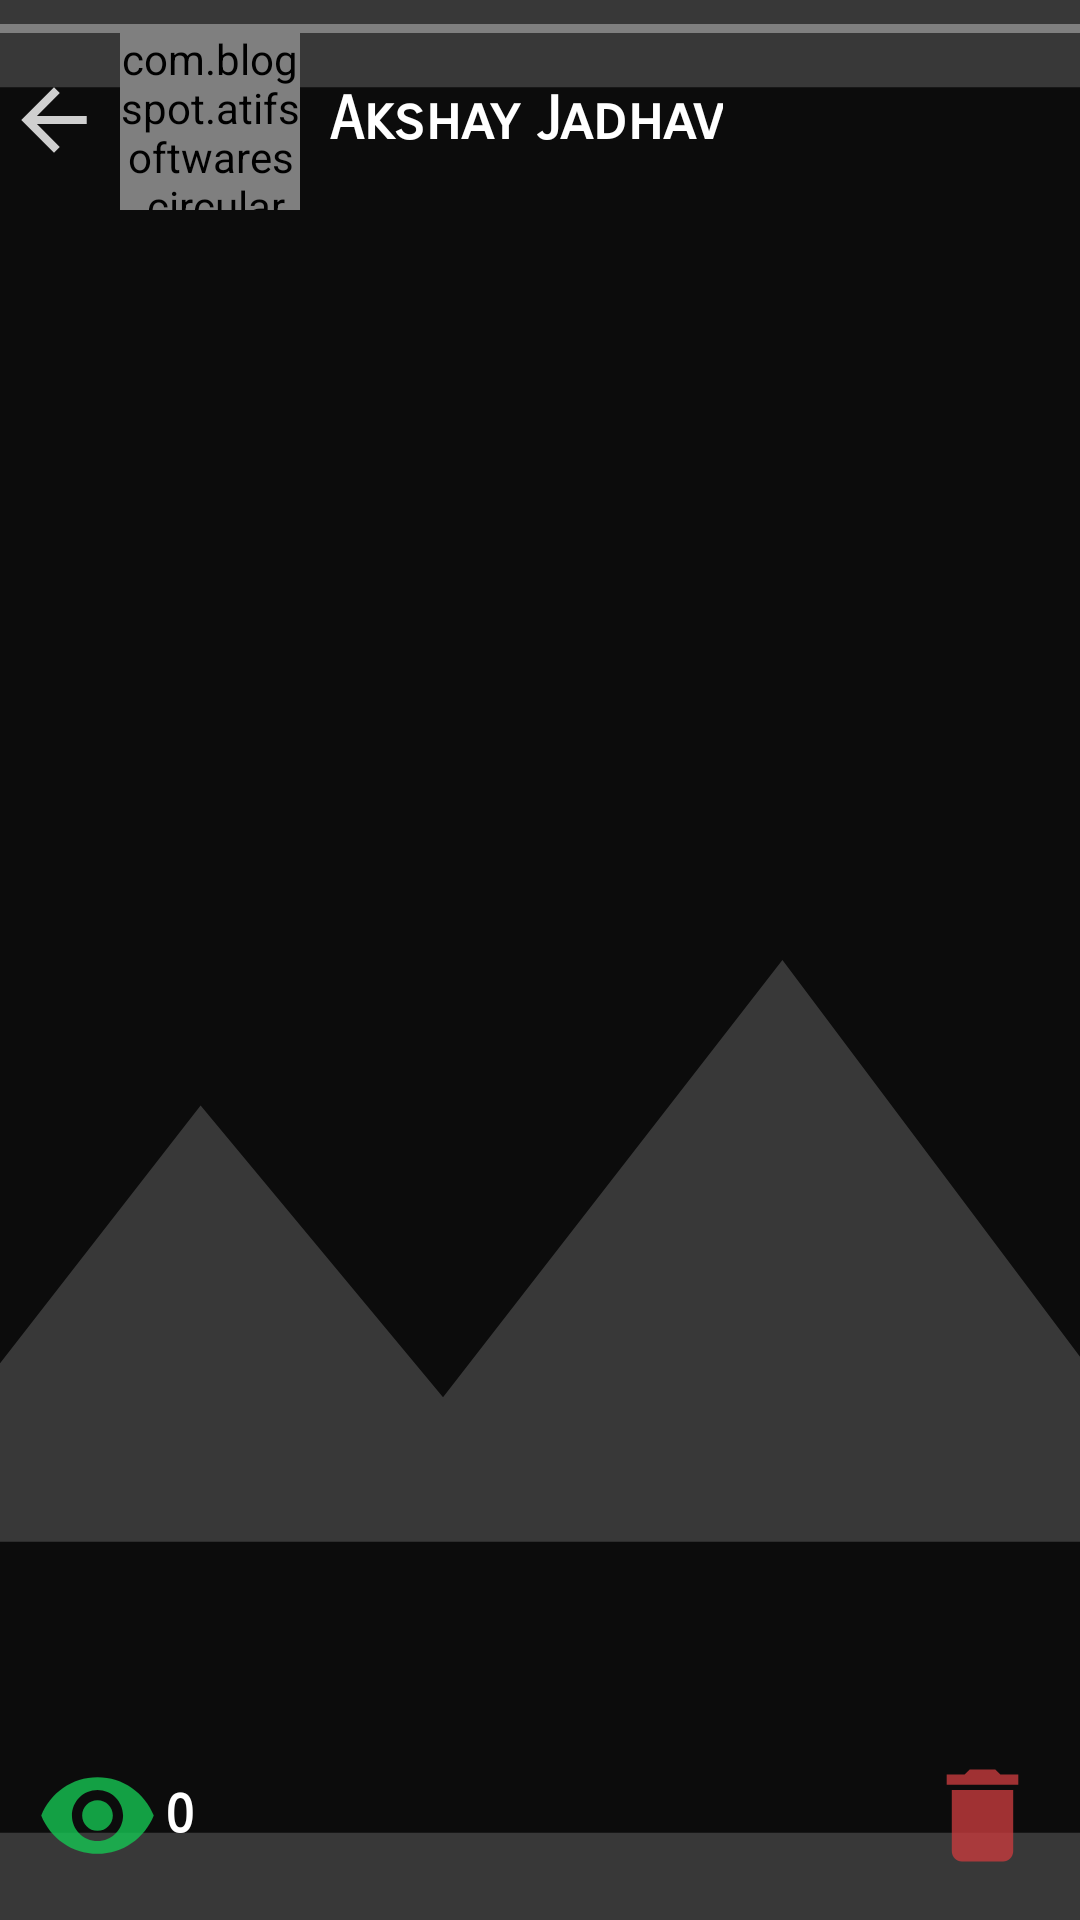

Point at icon controls on the screen. Image size 1080x1920, points as point (x, y).
delete: point (982, 1815)
